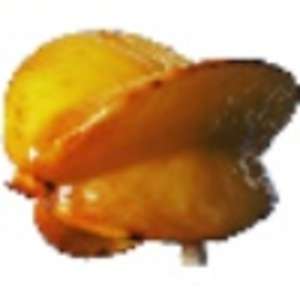carambola: (1, 27, 300, 268)
